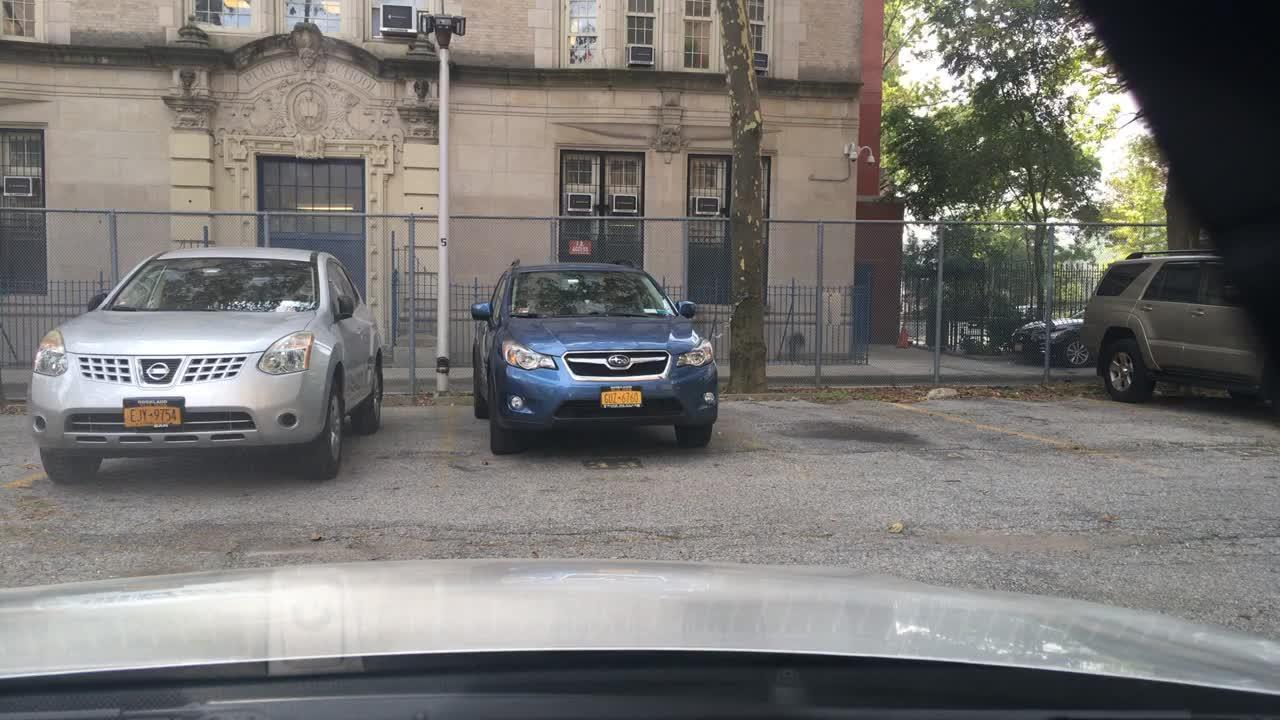Nissan: (138, 347, 177, 395)
subaru: (601, 351, 634, 371)
